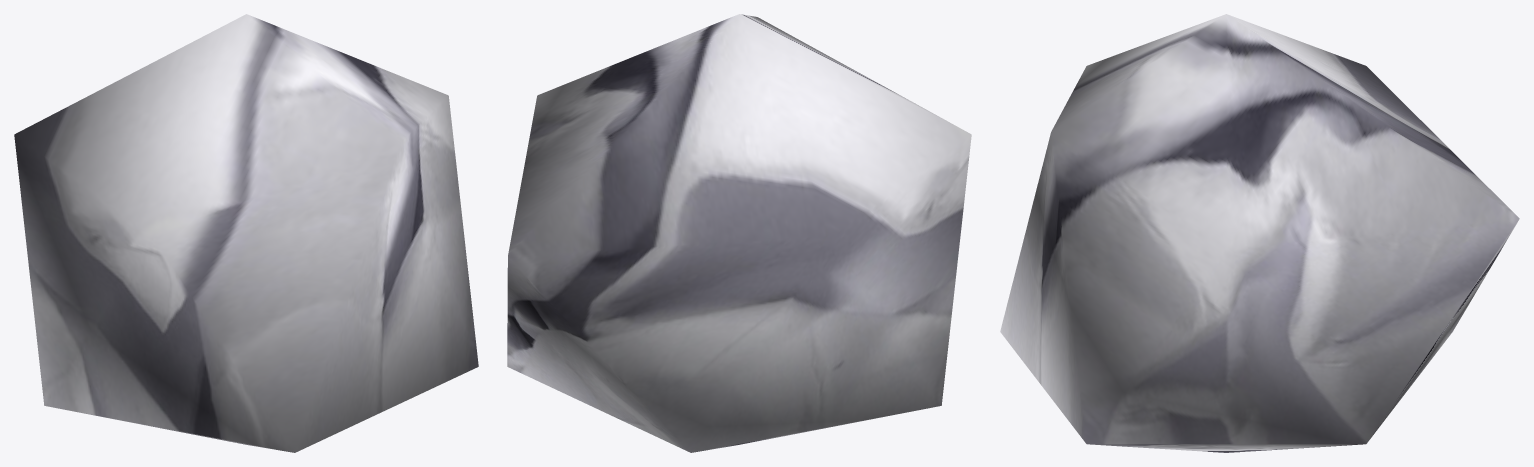
Rendered from paperball.fbx.
The picture shows the model from 3 angles, left to right: view 1: azimuth 30°, elevation 25°; view 2: azimuth 150°, elevation 25°; view 3: azimuth 270°, elevation 25°; orthographic projection.
Visible parts, largest first — view 1: Icosphere; view 2: Icosphere; view 3: Icosphere.
Part boxes in pixels (<box>): Icosphere: <box>14,14,478,452</box>; Icosphere: <box>507,14,971,452</box>; Icosphere: <box>1000,14,1519,452</box>.
Bounding box in the file's own units: 0.1 × 0.1018 × 0.1092.
